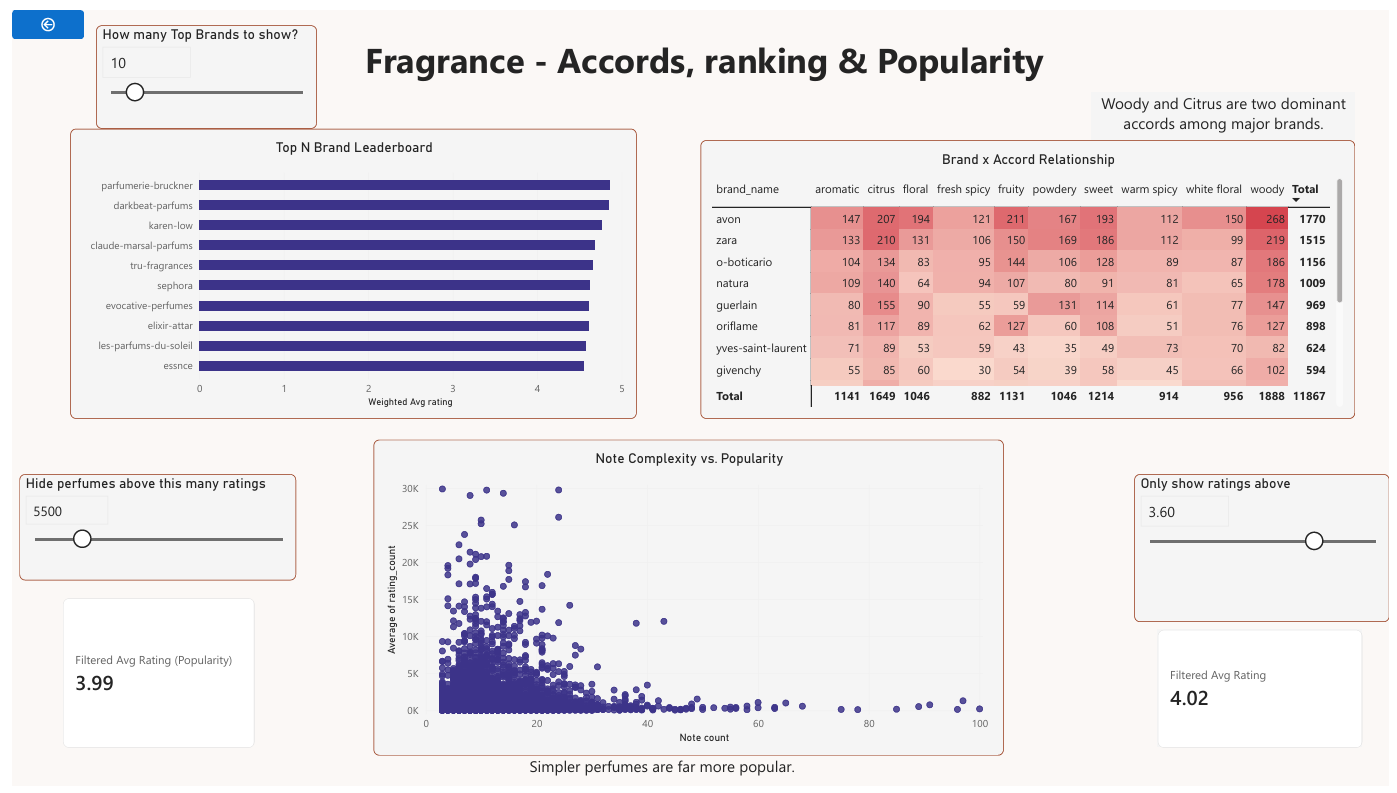

The page's visual inventory and layout, read from the dashboard file:
{"tool":"powerbi","page":{"name":"Page 2","canvas":[1920,1080],"ordinal":1},"visuals":[{"type":"slicer","fields":{"Values":["Max Popularity Threshold.Max Popularity Threshold"]},"box":[10.4,645.8,385.4,147.9],"z":0},{"type":"actionButton","box":[0,0,100,40],"z":1},{"type":"cardVisual","fields":{"Data":["Max Popularity Threshold.Filtered Avg Rating (Popularity)"]},"box":[70.8,818.8,266.7,208.3],"z":2},{"type":"pivotTable","title":"Brand x Accord Relationship","fields":{"Columns":["luxury_fragrance accords.accord_name"],"Rows":["luxury_fragrance brands.brand_name"],"Values":["luxury_fragrance perfume_accords.Accord Count"]},"box":[960.4,181.2,912.5,387.5],"z":6},{"type":"scatterChart","title":"Note Complexity vs. Popularity","fields":{"Category":["luxury_fragrance perfumes.perfume_name"],"X":["luxury_fragrance perfumes.Note count"],"Y":["Avg(luxury_fragrance perfumes.rating_count)"]},"box":[504.2,597.9,879.2,439.6],"z":7},{"type":"slicer","fields":{"Values":["Min Rating Threshold.Min Rating Threshold"]},"box":[1564.6,645.8,356,206],"z":11},{"type":"cardVisual","fields":{"Data":["Min Rating Threshold.Filtered Avg Rating"]},"box":[1597.9,862.5,285.4,164.6],"z":12},{"type":"slicer","fields":{"Values":["Top N Brands.Top N Brands"]},"box":[116.7,20.8,308.3,143.8],"z":13},{"type":"clusteredBarChart","title":"Top N Brand Leaderboard","fields":{"Category":["luxury_fragrance brands.brand_name"],"Y":["luxury_fragrance perfumes.Weighted Avg rating"]},"box":[81.2,164.6,790,404],"z":14},{"type":"textbox","box":[425,14.6,1081.2,122.9],"z":15},{"type":"textbox","box":[1506.2,114.6,366.7,66.7],"z":16},{"type":"textbox","box":[395.8,1037.5,1020.8,33.3],"z":17}]}

Visuals, with their boxes in screenshot pixels (x1, y1, x2, y2), scaled from the page's 1920x1080 canvas onto the 1397x793 screenshot:
slicer - Max Popularity Threshold.Max Popularity Threshold: l=8, t=474, r=288, b=583
actionButton: l=0, t=0, r=73, b=29
cardVisual - Max Popularity Threshold.Filtered Avg Rating (Popularity): l=52, t=601, r=246, b=754
"Brand x Accord Relationship" pivotTable: l=699, t=133, r=1363, b=418
"Note Complexity vs. Popularity" scatterChart: l=367, t=439, r=1007, b=762
slicer - Min Rating Threshold.Min Rating Threshold: l=1138, t=474, r=1396, b=625
cardVisual - Min Rating Threshold.Filtered Avg Rating: l=1163, t=633, r=1370, b=754
slicer - Top N Brands.Top N Brands: l=85, t=15, r=309, b=121
"Top N Brand Leaderboard" clusteredBarChart: l=59, t=121, r=634, b=417
textbox: l=309, t=11, r=1096, b=101
textbox: l=1096, t=84, r=1363, b=133
textbox: l=288, t=762, r=1031, b=786
